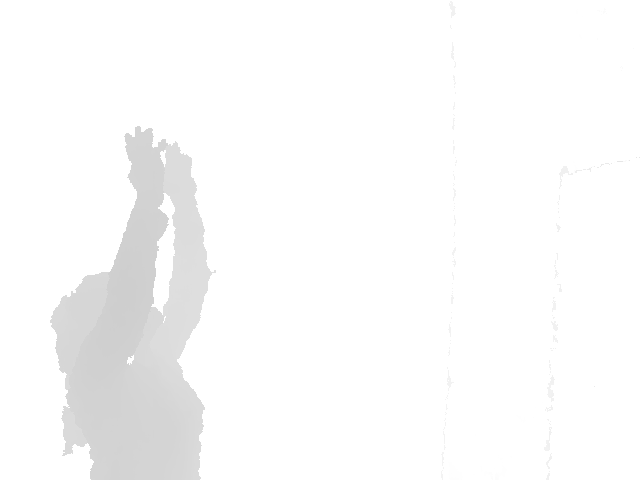hand: (122, 124, 167, 206), (158, 141, 198, 198)
head: (52, 271, 166, 365)
person: (49, 124, 217, 480)
